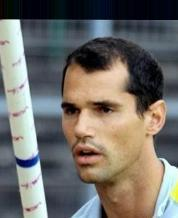face: (60, 100, 120, 167)
